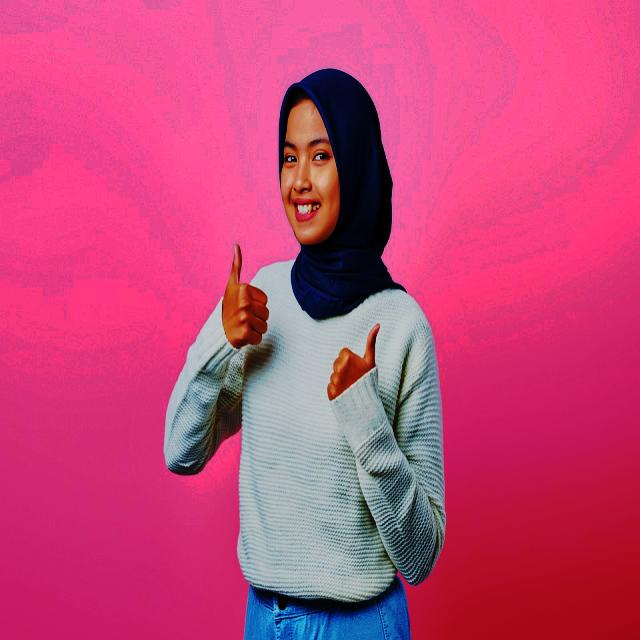thumbs_up: (216, 240, 272, 352)
